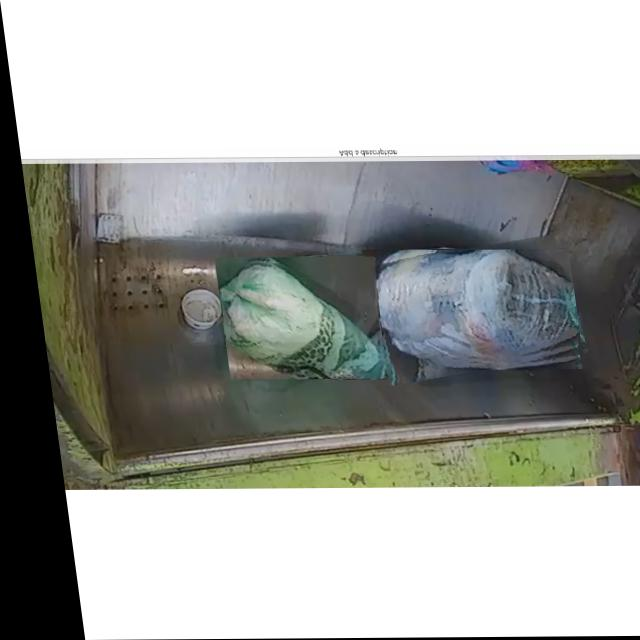general_trashbag: (213, 262, 376, 379)
other_trashbag: (364, 251, 569, 363)
